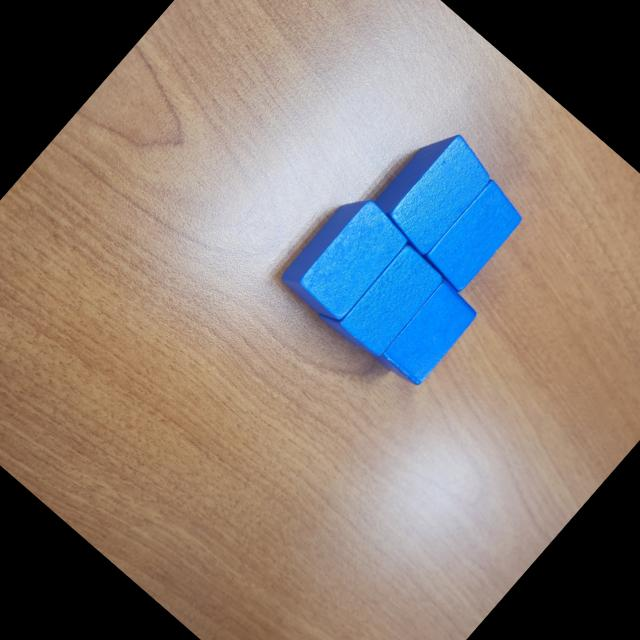blue: (275, 188, 415, 332), (367, 121, 502, 260), (315, 228, 449, 366), (364, 270, 484, 394), (421, 177, 532, 294)
